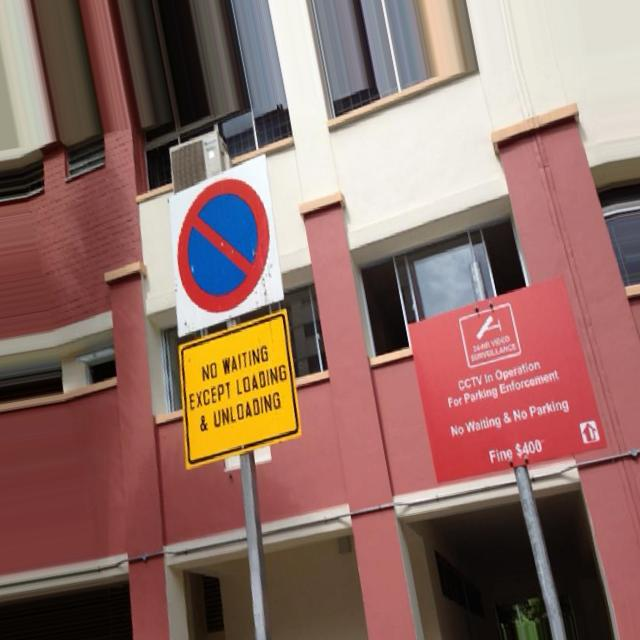forb_stopping: (174, 179, 271, 316)
